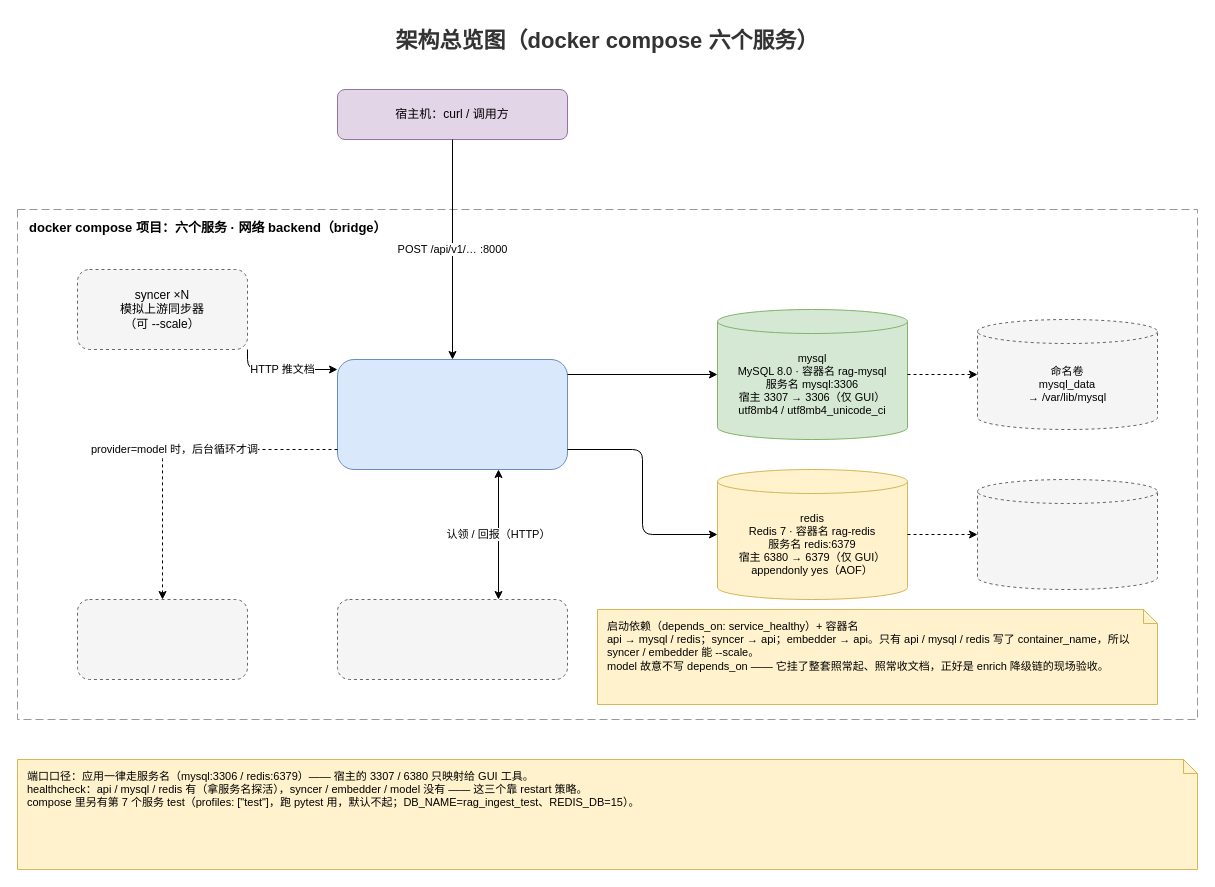
This 1215x887 diagram has some shape labels left out. Here are the shapes that lost their labels. From the top down, the centre of each, then its label:
At (x=452, y=414): "api（FastAPI） 容器名 rag-api 接入层 · 本服务 宿主 8000 → 8000".
At (x=1067, y=534): "命名卷 redis_data → /data".
At (x=162, y=639): "model 假模型服务 （enrich 的可插拔上游）".
At (x=452, y=639): "embedder ×N 模拟下游 worker （可 --scale）".
